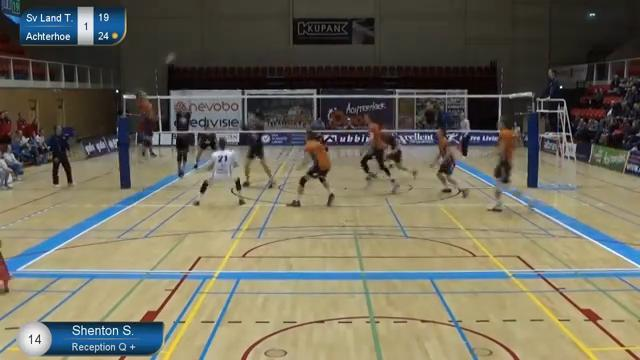attacco: (126, 79, 162, 170)
muro: (169, 86, 195, 181)
